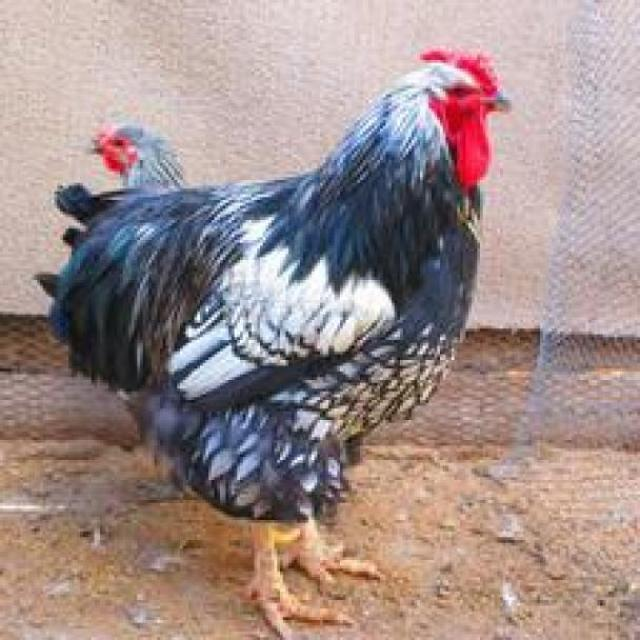Chicken: (32, 52, 516, 600)
